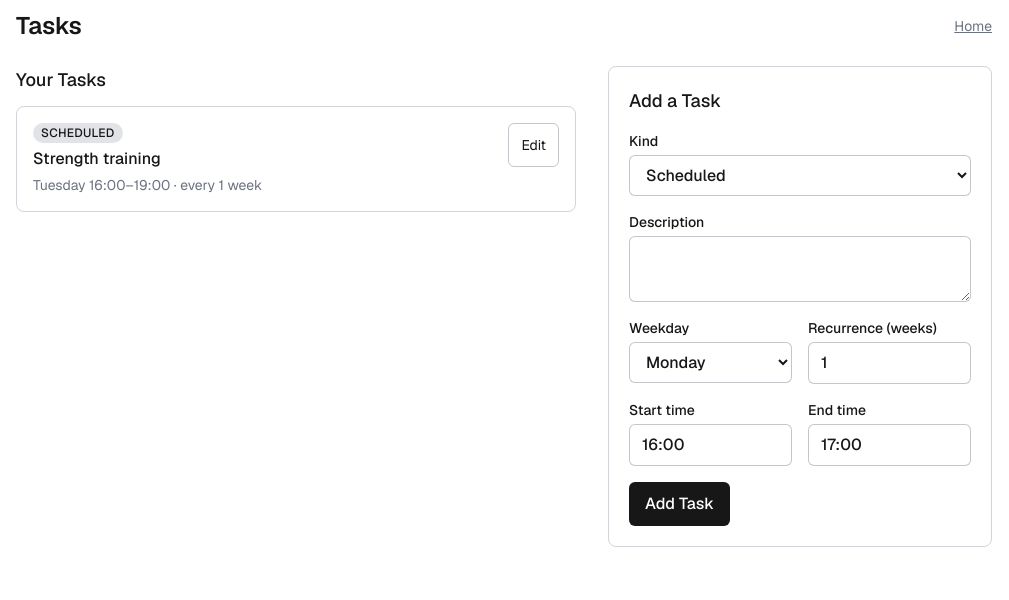
Test: Tasks page › pre-fills the edit form, locks the kind, and saves to the edit endpoint
The image size is (1009, 600).
Click the button with aria-label "Edit Strength training" at x=534, y=145, box [508,123,559,167]
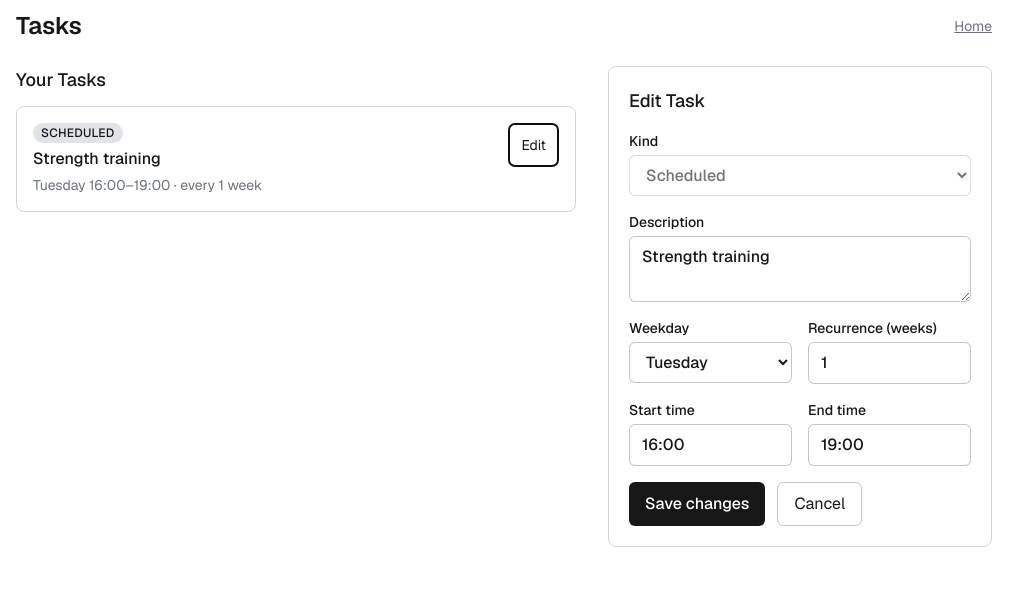
Now the heading "Edit Task" is shown, box [629,89,705,112]
Now the text box labelled "Description" holds "Strength training"
Now the dropdown labelled "Weekday" shows "Tuesday", box [629,342,792,383]
Replace the text in the text box labelled "Description" with "Renamed training" at x=800, y=269, box [629,236,971,302]
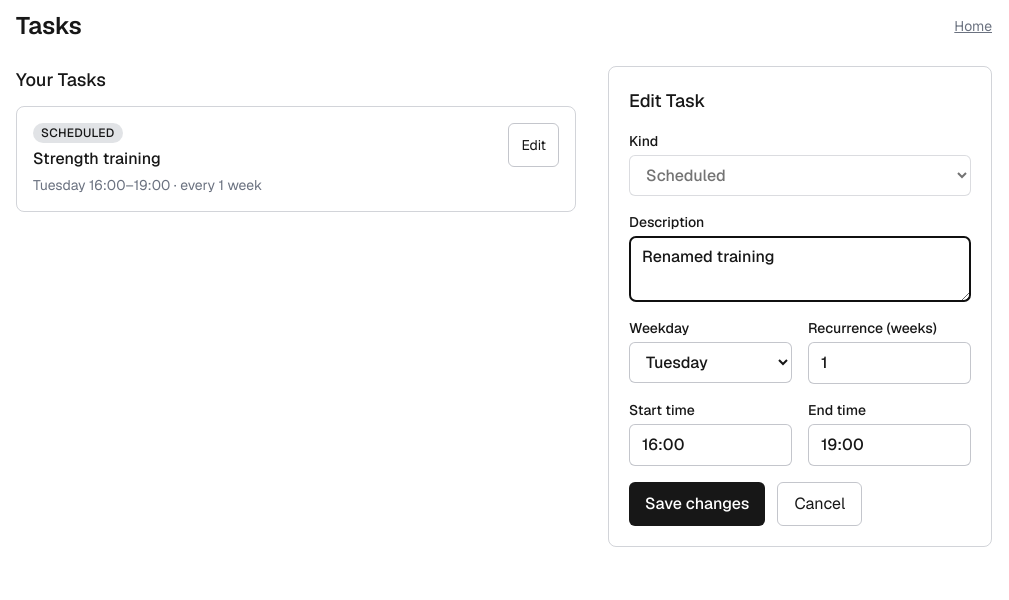
Replace the text in the field labelled "Start time" with "1700" at x=710, y=445, box [629,424,792,466]
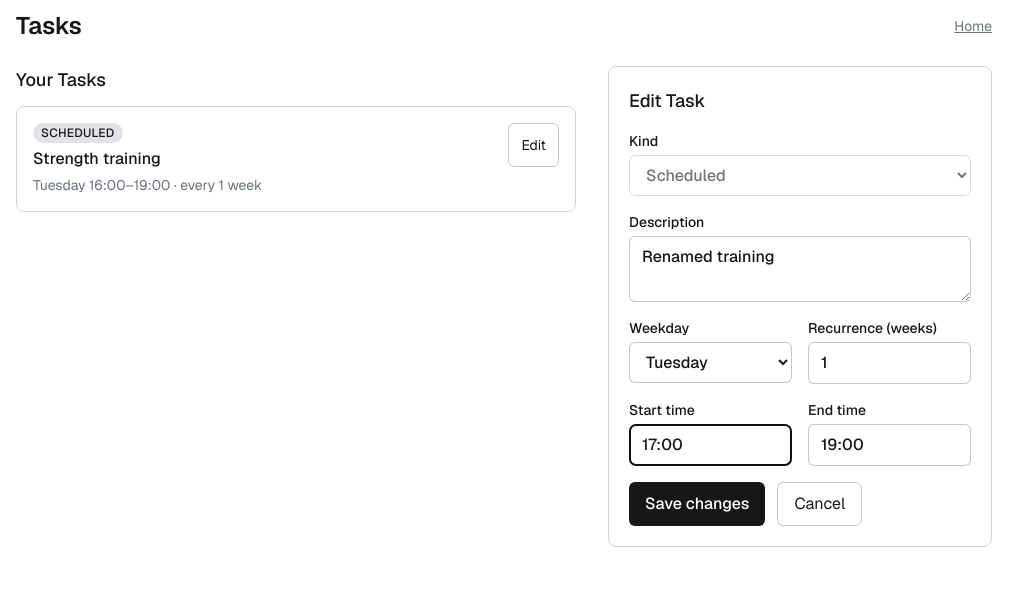
Replace the text in the field labelled "End time" with "1830" at x=890, y=445, box [808,424,971,466]
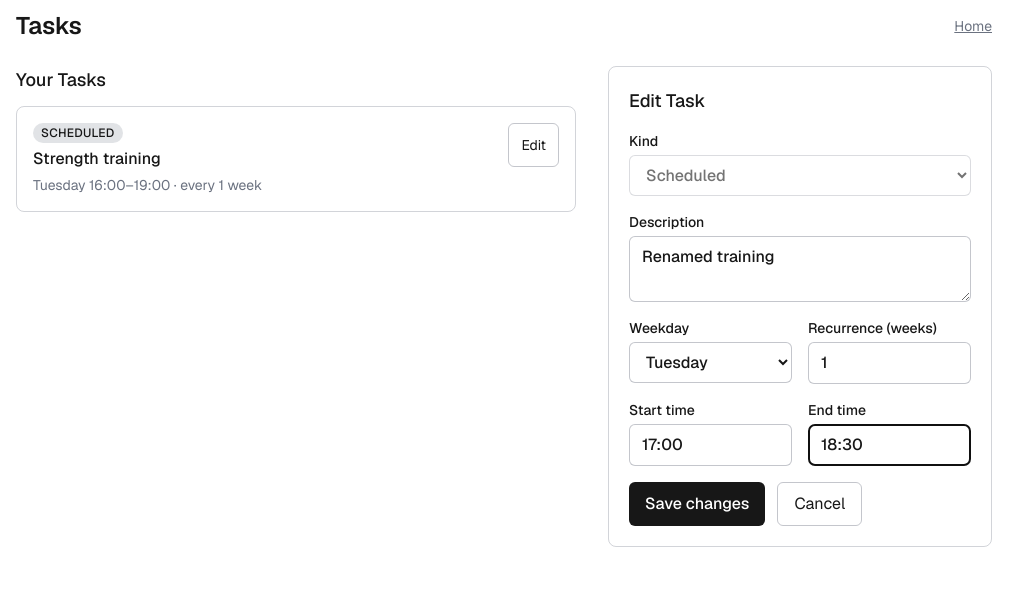
Click the button "Save changes" at x=697, y=504, box [629,482,765,526]
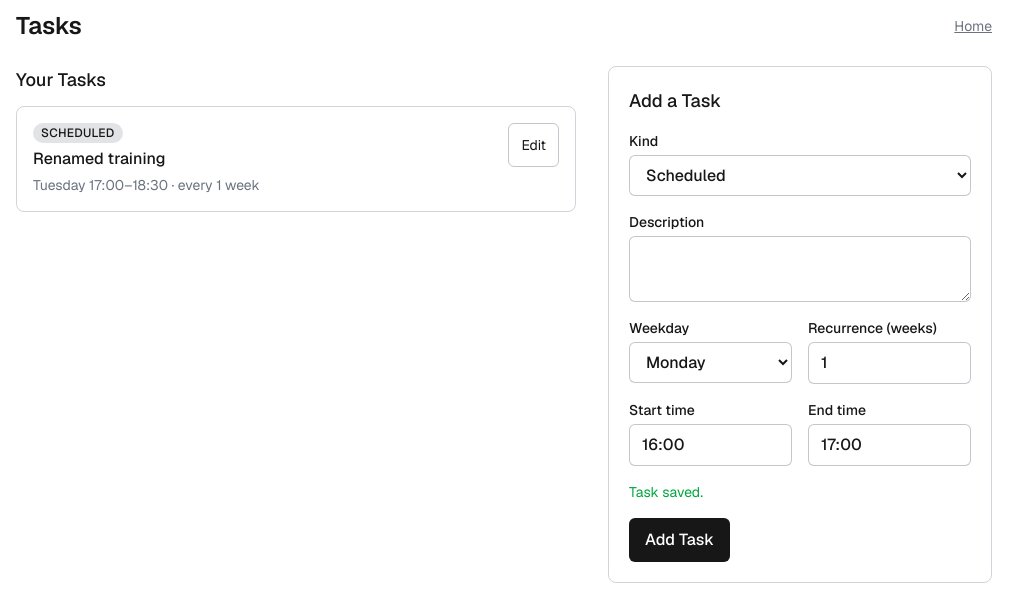
Now the text "Task saved." is shown, box [629,483,703,501]
